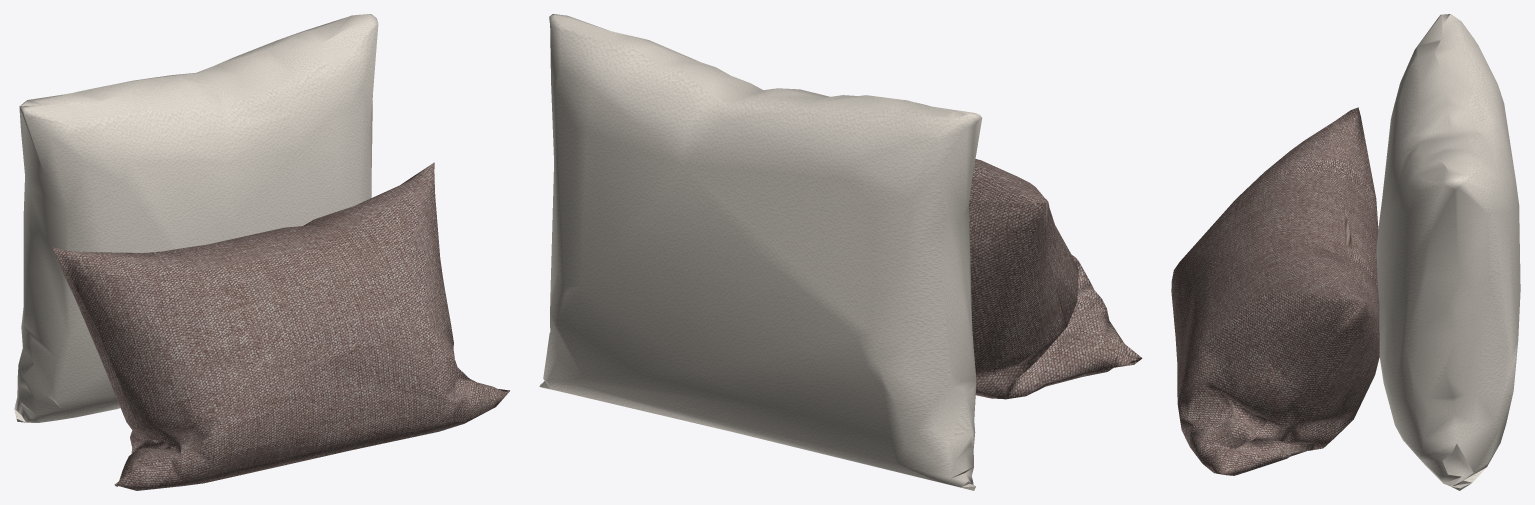
Rendered from pillows.FBX.
3 renders of one model, left to right at view 1: azimuth 30°, elevation 25°; view 2: azimuth 150°, elevation 25°; view 3: azimuth 270°, elevation 25°, orthographic. The views are drawn at different scales.
Visible parts, largest first — view 1: pillow 2, pillow 1; view 2: pillow 1, pillow 2; view 3: pillow 2, pillow 1.
Part boxes in pixels (bbox=[...]): pillow 2: bbox=[52, 162, 509, 490]; pillow 1: bbox=[14, 14, 378, 422]; pillow 1: bbox=[539, 14, 982, 490]; pillow 2: bbox=[969, 159, 1142, 399]; pillow 2: bbox=[1171, 107, 1379, 475]; pillow 1: bbox=[1376, 14, 1520, 490].
Size of the model in its own units: 27.21 by 21.18 by 20.81.
Materials: 2 (2 with a texture image).
